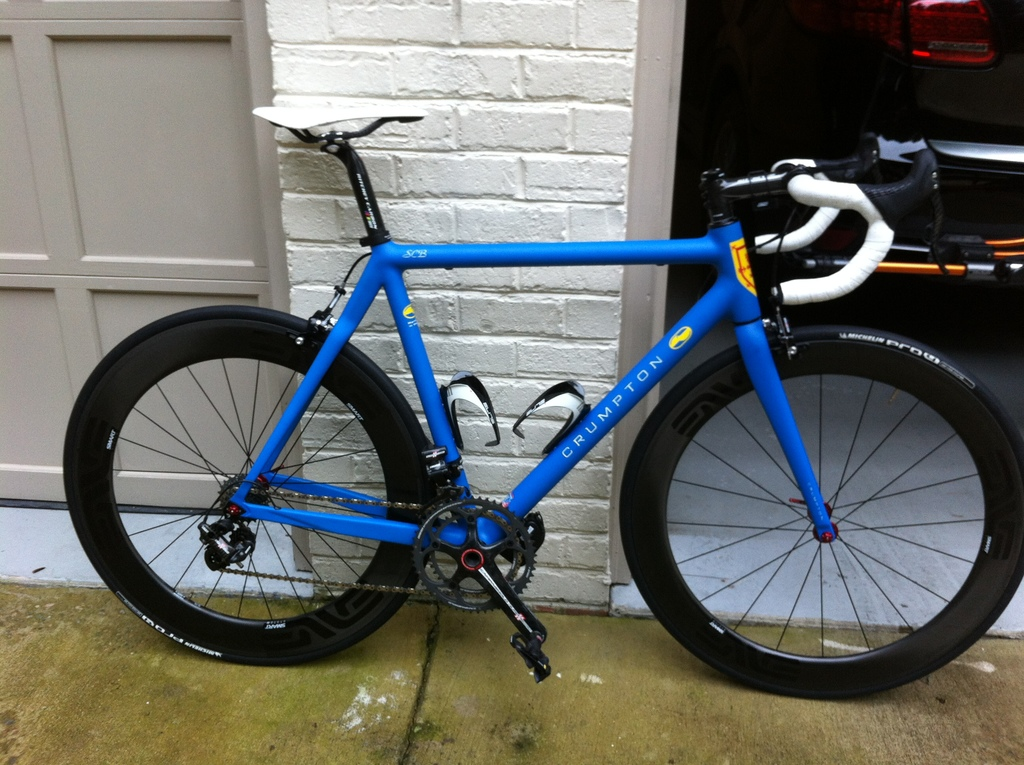Bike_toward: (82, 148, 948, 691)
